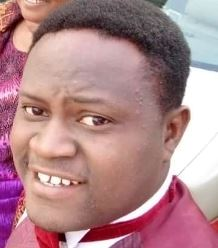without_facemask: (10, 124, 134, 231)
